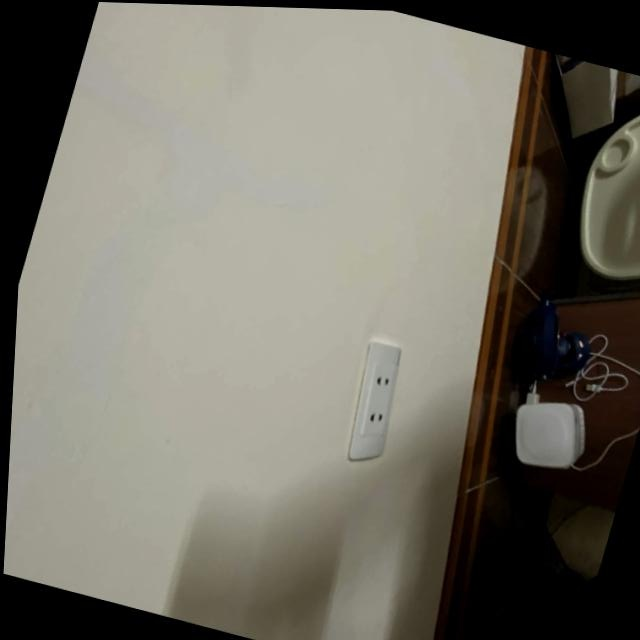outlet: (335, 339, 412, 470)
